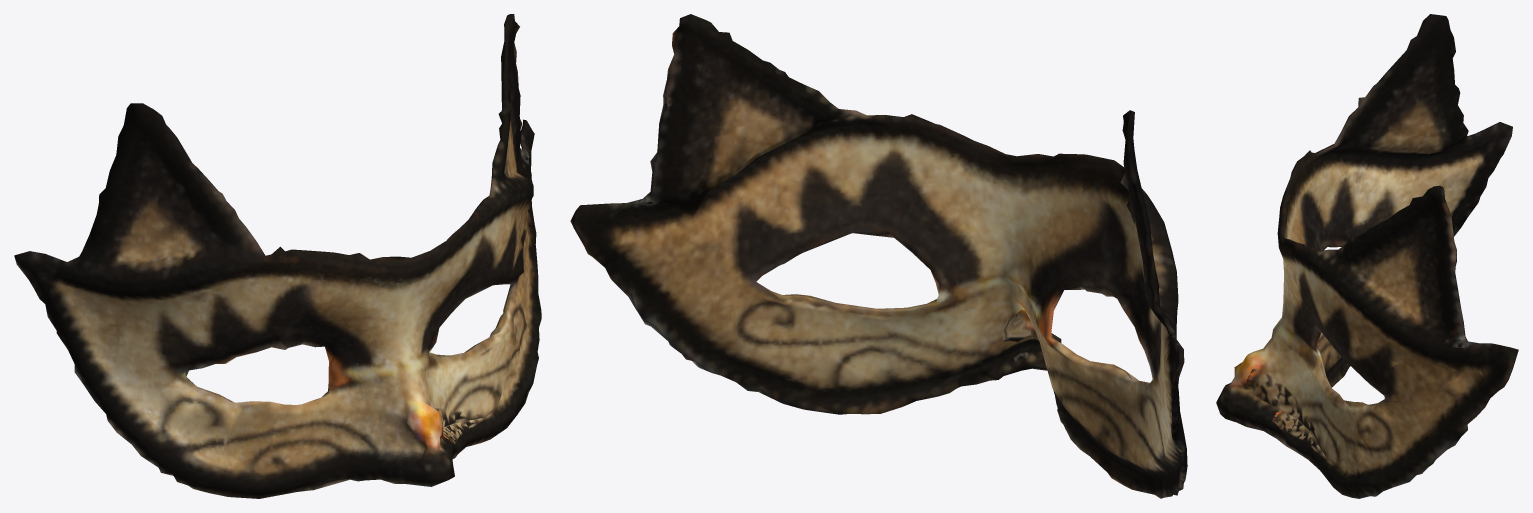
The model's file is masquerade_cat_mask_3.glb.
The picture shows the model from 3 angles, left to right: view 1: azimuth 30°, elevation 25°; view 2: azimuth 150°, elevation 25°; view 3: azimuth 270°, elevation 25°; orthographic projection. The views are drawn at different scales.
Parts seen in each view (by area): view 1: geo1; view 2: geo1; view 3: geo1.
Part boxes in pixels (bbox=[...]): geo1: bbox=[14, 14, 541, 498]; geo1: bbox=[570, 14, 1187, 498]; geo1: bbox=[1216, 14, 1518, 498].
Bounding box in the file's own units: 0.1818 × 0.1235 × 0.0989.
Materials: 1 (1 with a texture image).
